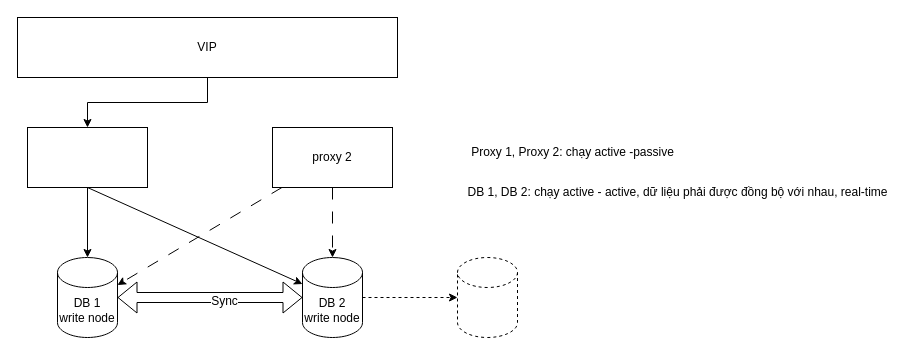
Image size: 915x355. Some labels were removed from this diagram. The shapes that lost their labels are listed below. From the top down, each one's box as (x1, y1, x2, y2) in pixels, then its label:
(26, 126, 148, 188): proxy 1
(456, 256, 518, 338): DB 3 read node
